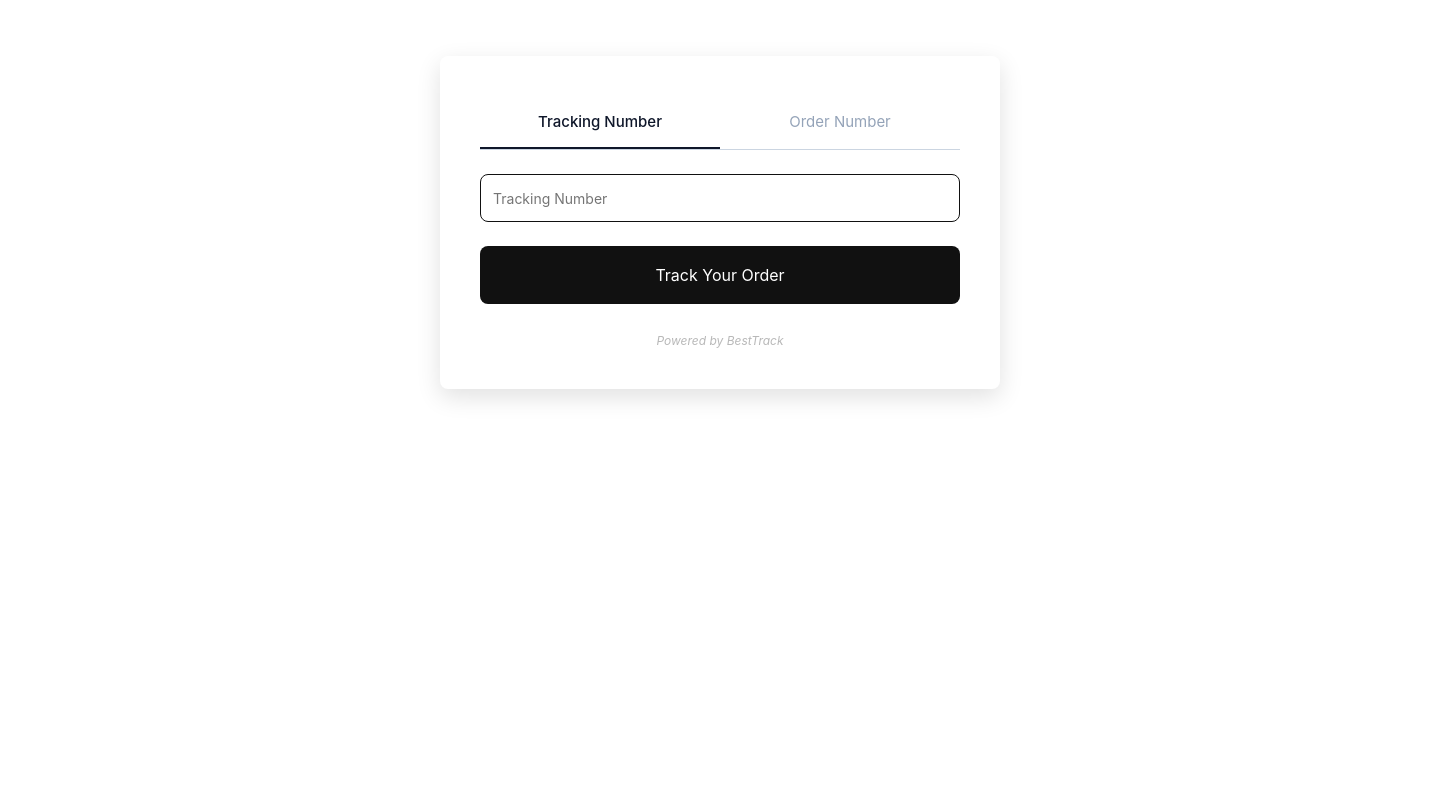
Scenario: Ready-to-go recent query badges › shows a single tracking number as text, then the newest three as badges
This screenshot has width=1440, height=810.
In the field labelled "Tracking Number": coordinates (720, 198) [480,174,960,222], type "AAA"
Click the button "Track Your Order": coordinates (720, 275) [480,246,960,304]
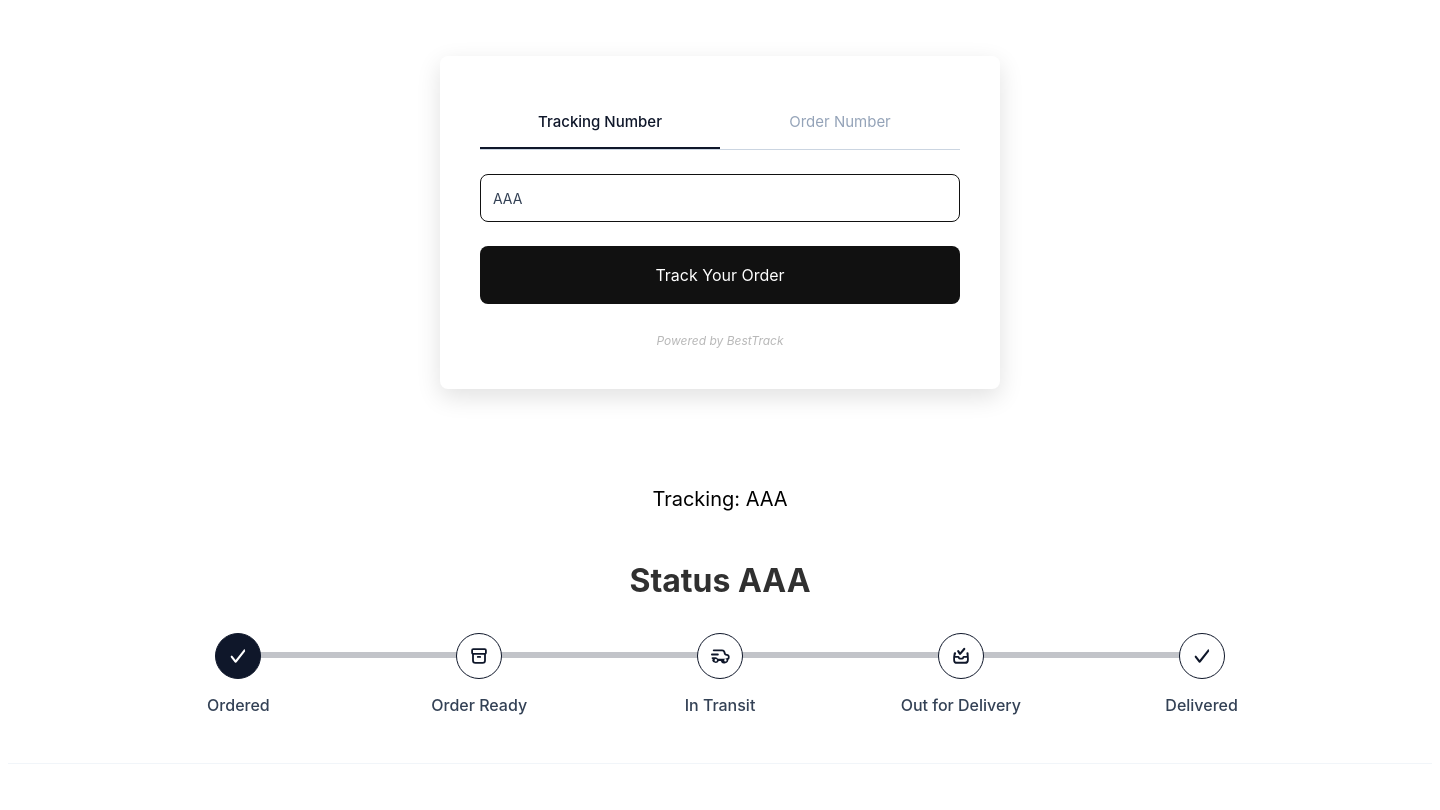
Expected: the heading "Status AAA" is shown, [629,561,811,600]
Expected: the text "Tracking: AAA" is shown, [652,487,788,511]
Replace the text in the field named "Tracking Number" with "BBB": coordinates (720, 198) [480,174,960,222]
Click the button "Track Your Order": coordinates (720, 275) [480,246,960,304]
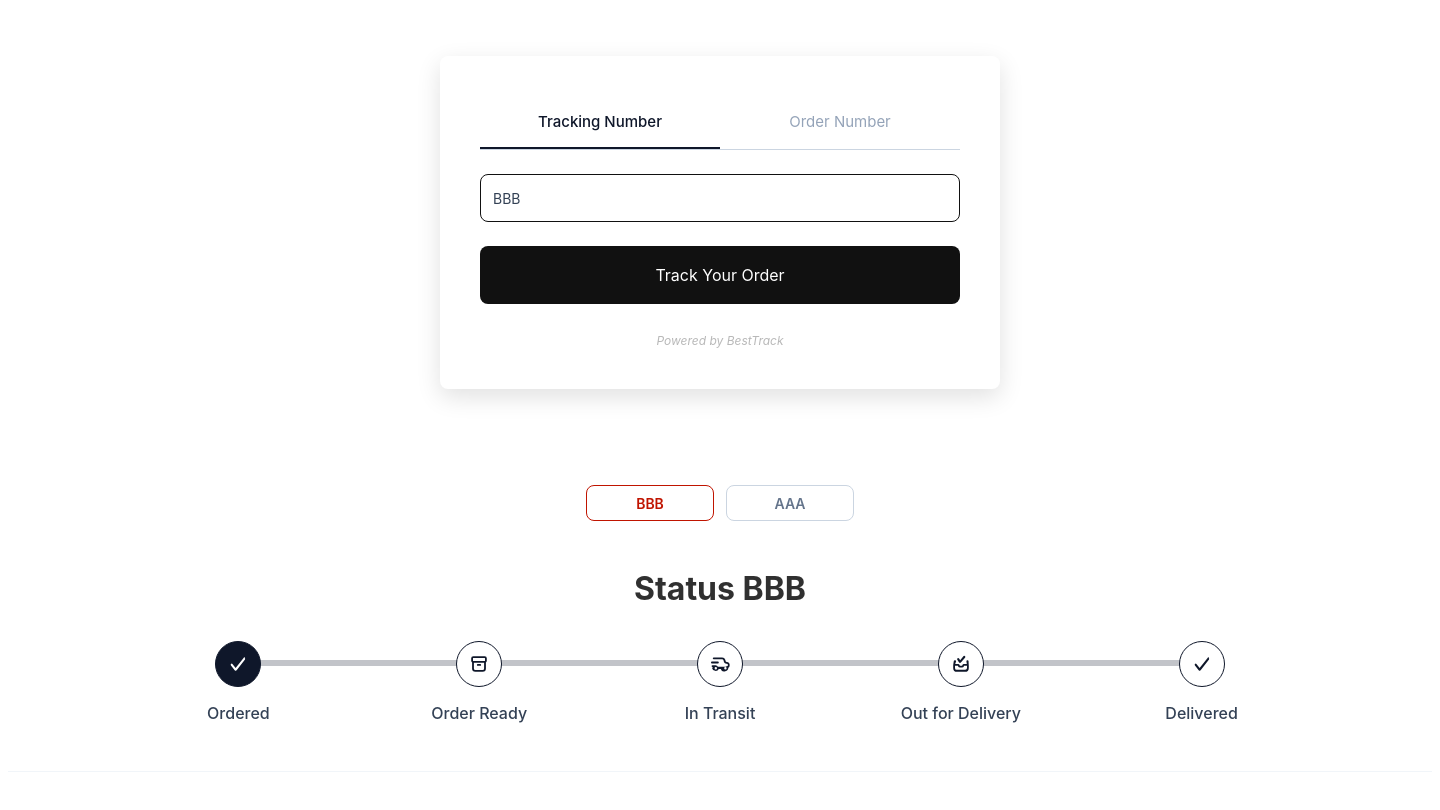
Expected: the heading "Status BBB" is shown, [634,569,806,608]
Replace the text in the field named "Tracking Number" with "CCC": coordinates (720, 198) [480,174,960,222]
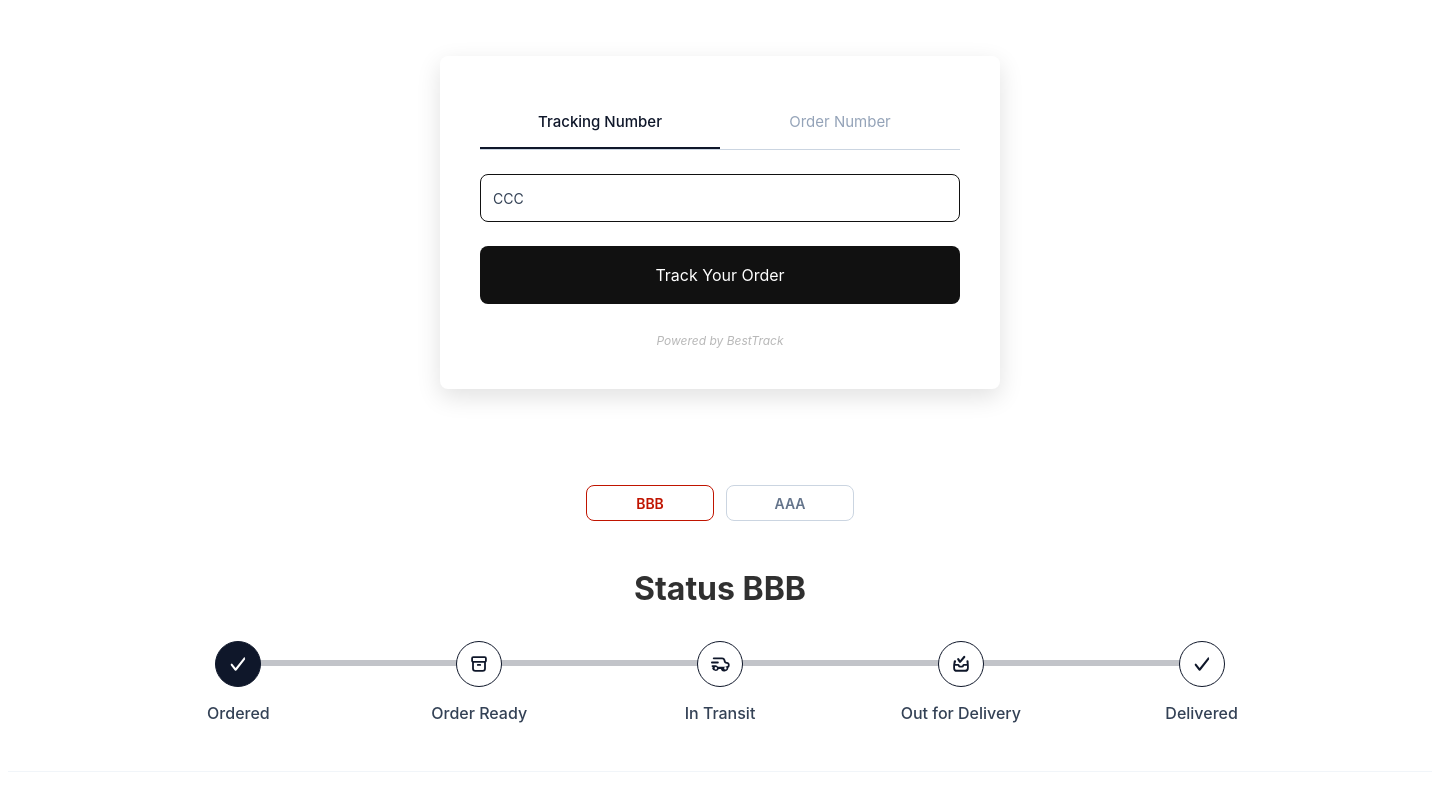
Click the button "Track Your Order": coordinates (720, 275) [480,246,960,304]
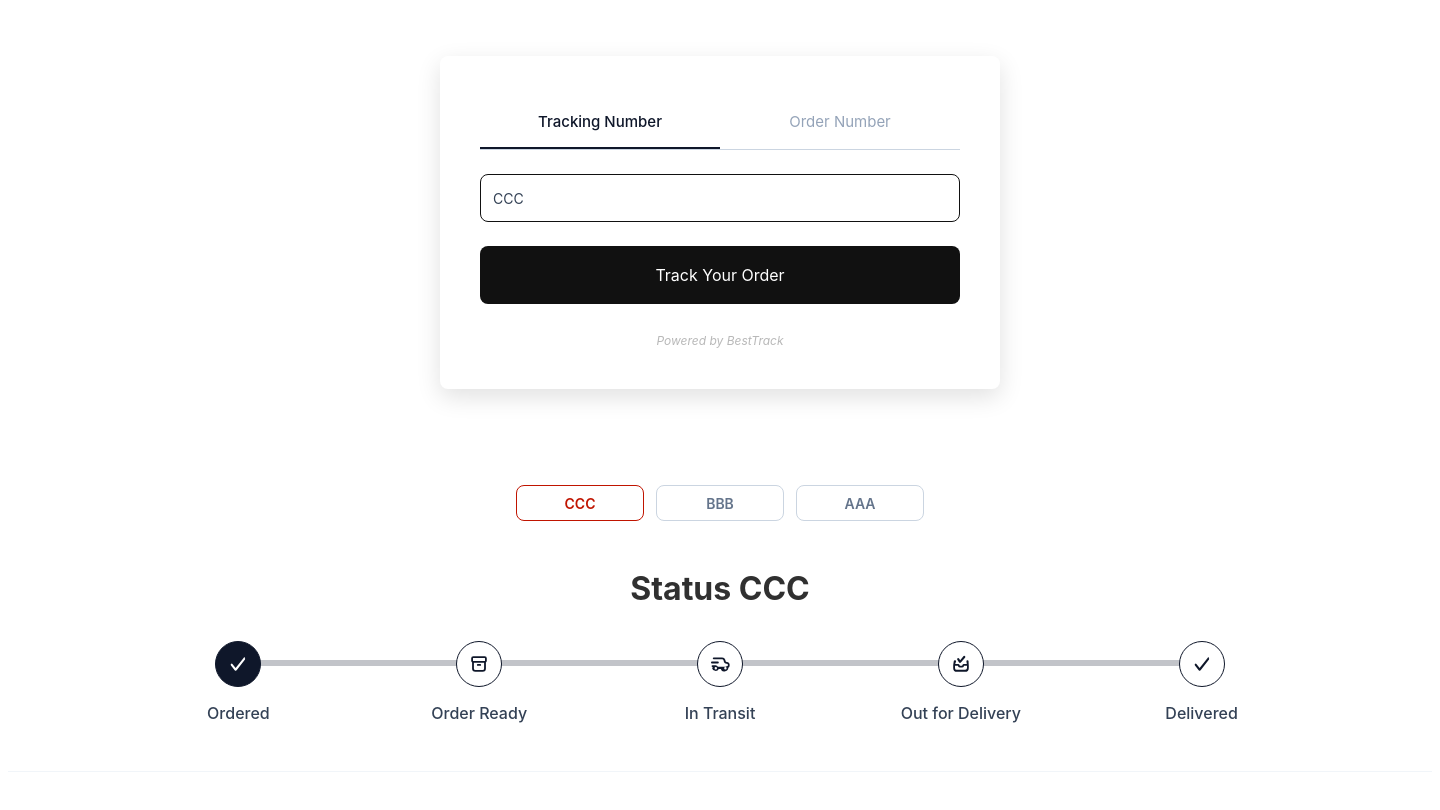
Replace the text in the field named "Tracking Number" with "DDD": coordinates (720, 198) [480,174,960,222]
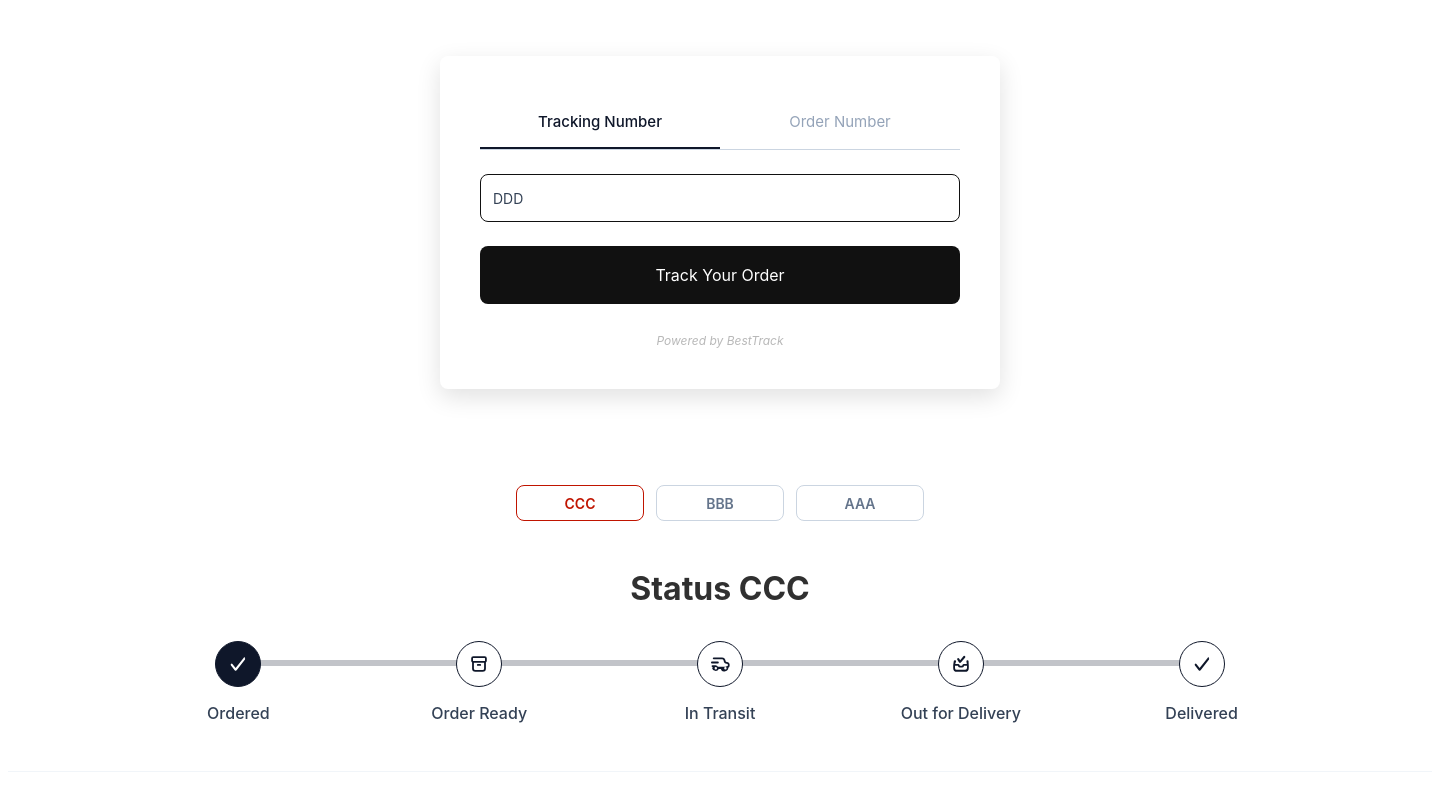
Click the button "Track Your Order": coordinates (720, 275) [480,246,960,304]
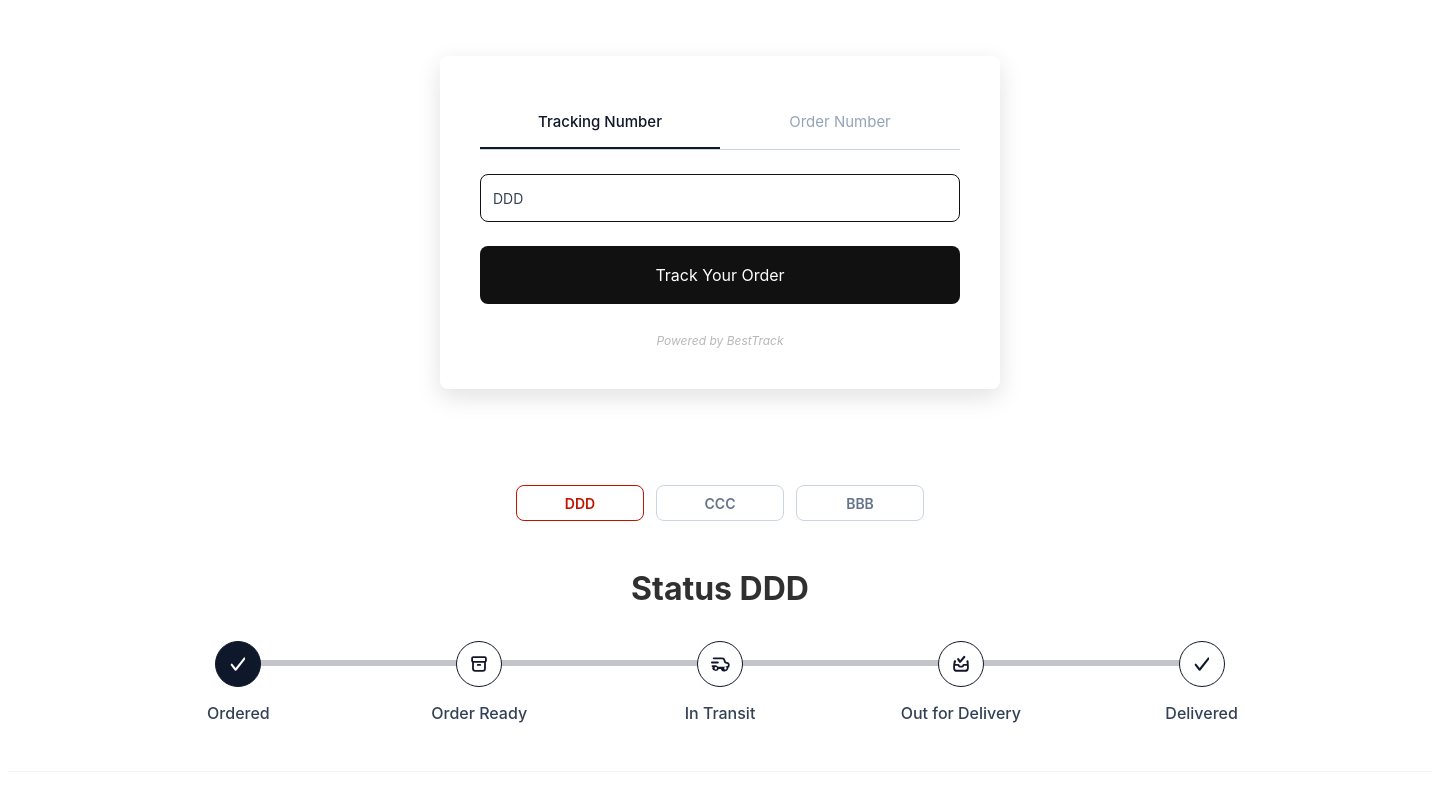
Expected: the button "DDD" is shown, [516,485,644,521]
Expected: the button "CCC" is shown, [656,485,784,521]
Expected: the button "BBB" is shown, [796,485,924,521]
